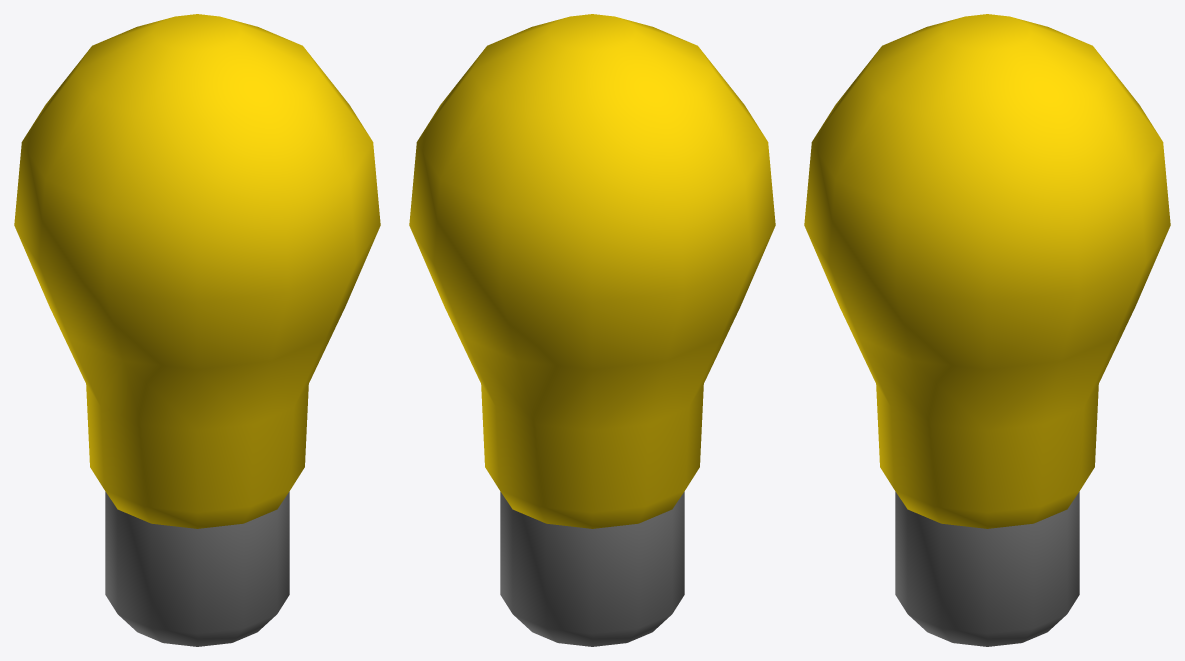
The model's file is lightbulb.dae.
The picture shows the model from 3 angles, left to right: view 1: azimuth 30°, elevation 25°; view 2: azimuth 150°, elevation 25°; view 3: azimuth 270°, elevation 25°; orthographic projection.
Visible parts, largest first — view 1: Cylinder; view 2: Cylinder; view 3: Cylinder.
Part boxes in pixels (x1,y1,x2,y2): Cylinder: (14,14,380,646); Cylinder: (409,14,775,646); Cylinder: (804,14,1170,646).
Bounding box in the file's own units: 2.03 × 2.03 × 3.57.
1 material, 1 textured.
